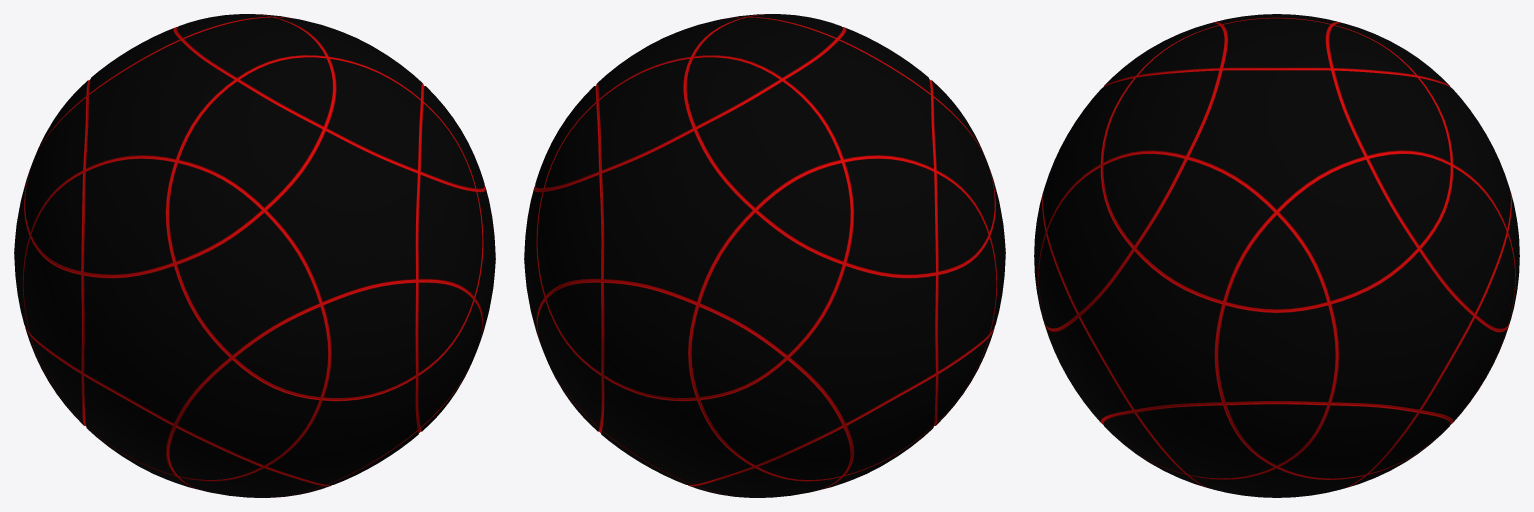
Rendered from Ball.fbx.
The picture shows the model from 3 angles, left to right: view 1: azimuth 30°, elevation 25°; view 2: azimuth 150°, elevation 25°; view 3: azimuth 270°, elevation 25°; orthographic projection.
Parts seen in each view (by area): view 1: Ball; view 2: Ball; view 3: Ball.
Boxes of the visible parts, x1,y1,x2,y2 form: Ball: [14, 14, 495, 497]; Ball: [524, 14, 1005, 497]; Ball: [1034, 14, 1519, 497].
Size of the model in its own units: 149 by 149 by 149.
